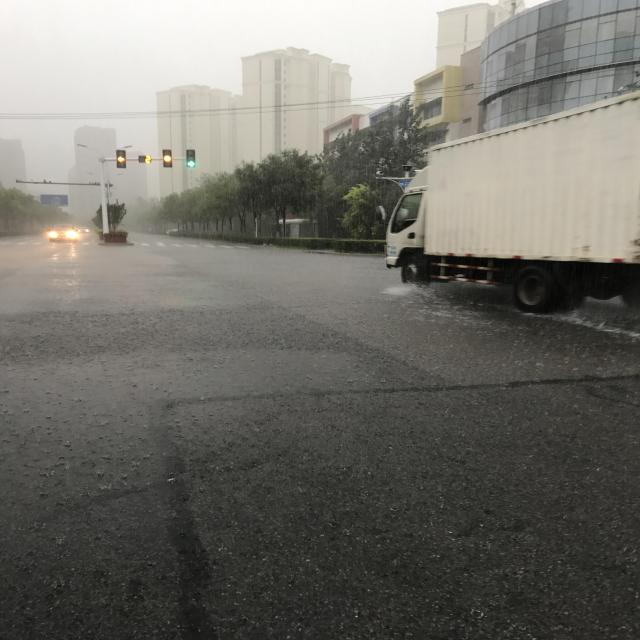car: (224, 560, 244, 594)
